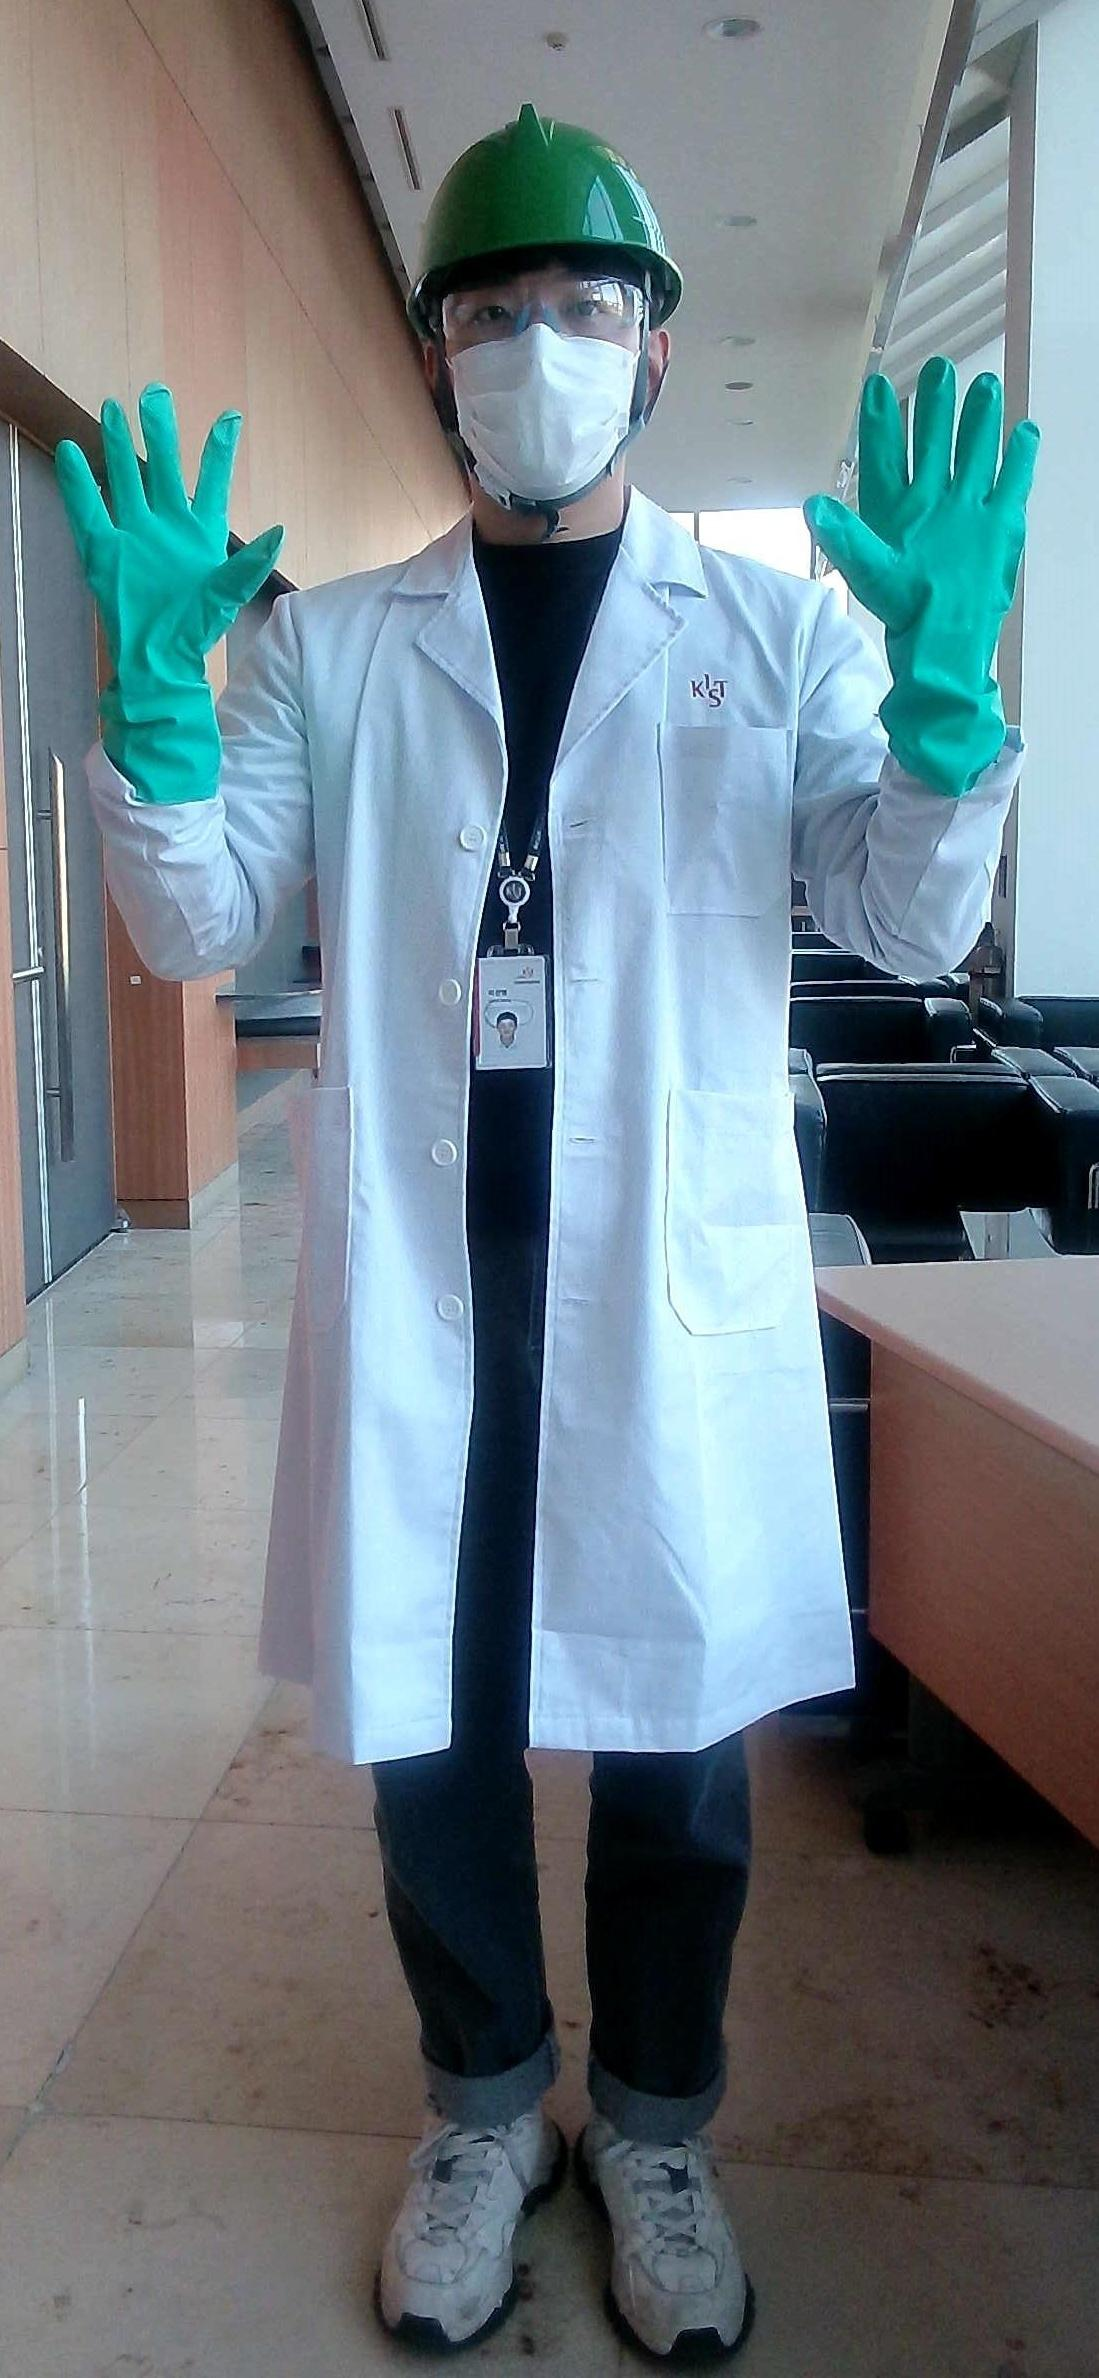lab_coat: (264, 581, 822, 1726)
